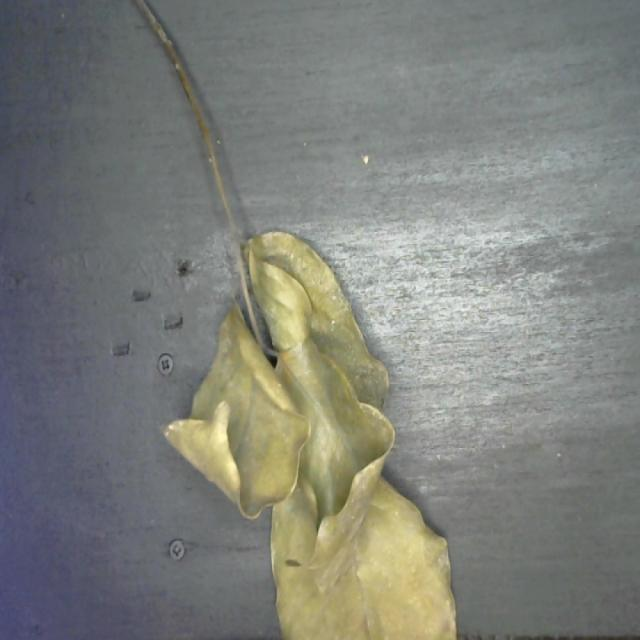biodegradable: (161, 220, 461, 640)
